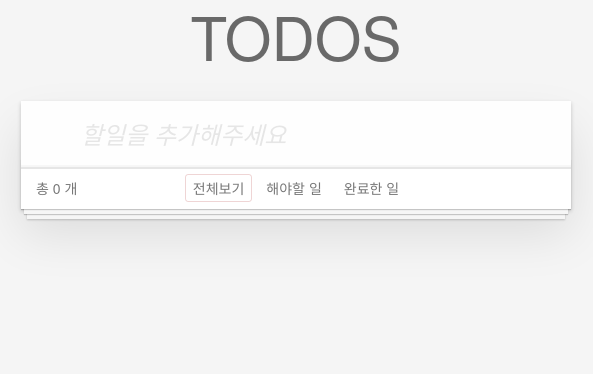
Test case: App › input twice, display all todos
In the field with placeholder "할일을 추가해주세요": (296, 134) [21,101,571,167], type "1st todo"
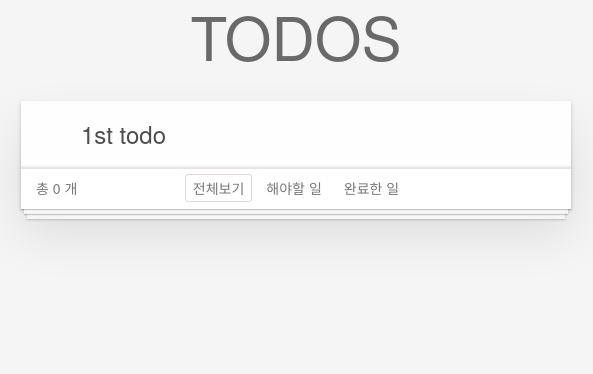
Press Enter in the field with placeholder "할일을 추가해주세요", box [21,101,571,167]
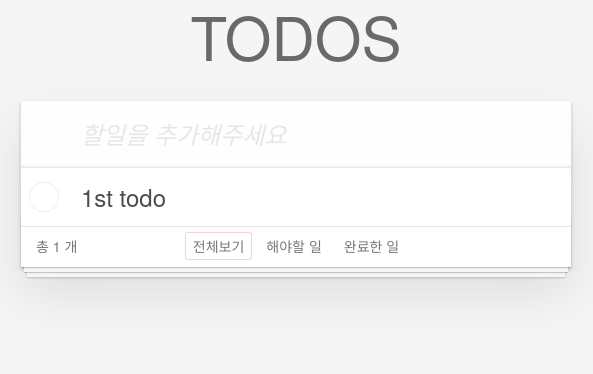
In the field with placeholder "할일을 추가해주세요": (296, 134) [21,101,571,167], type "2nd todo"
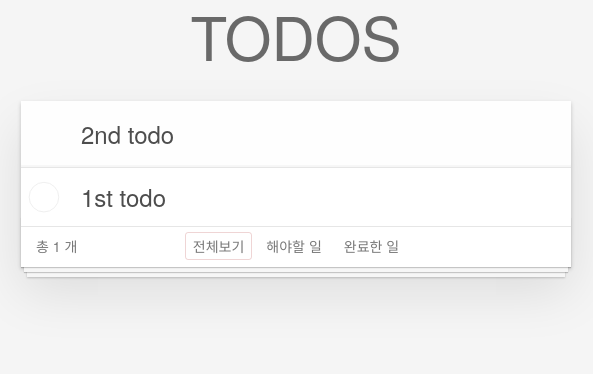
Press Enter in the field with placeholder "할일을 추가해주세요", box [21,101,571,167]
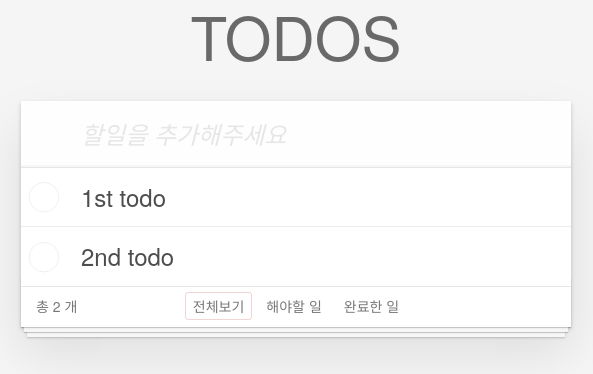
Result: the text "1st todo" is shown at [21,168,571,226]
Result: the text "2nd todo" is shown at [21,227,571,286]
